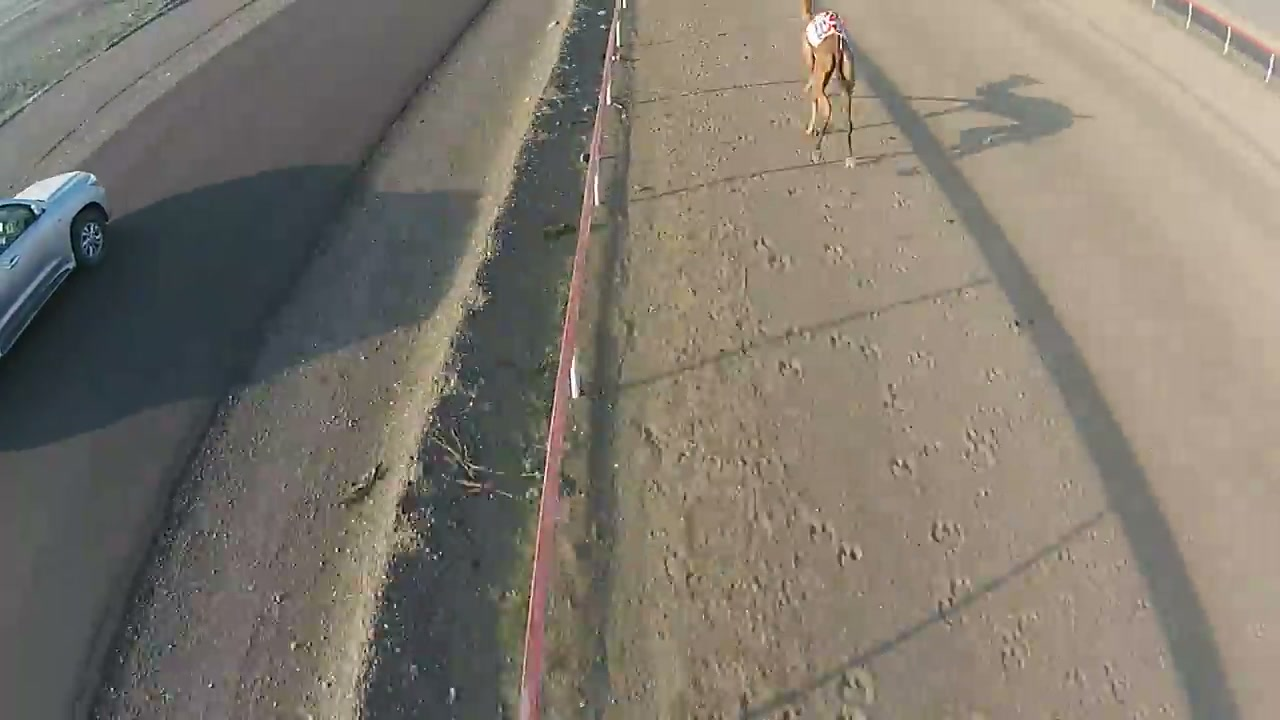animal_footprint: (771, 167, 1008, 644)
